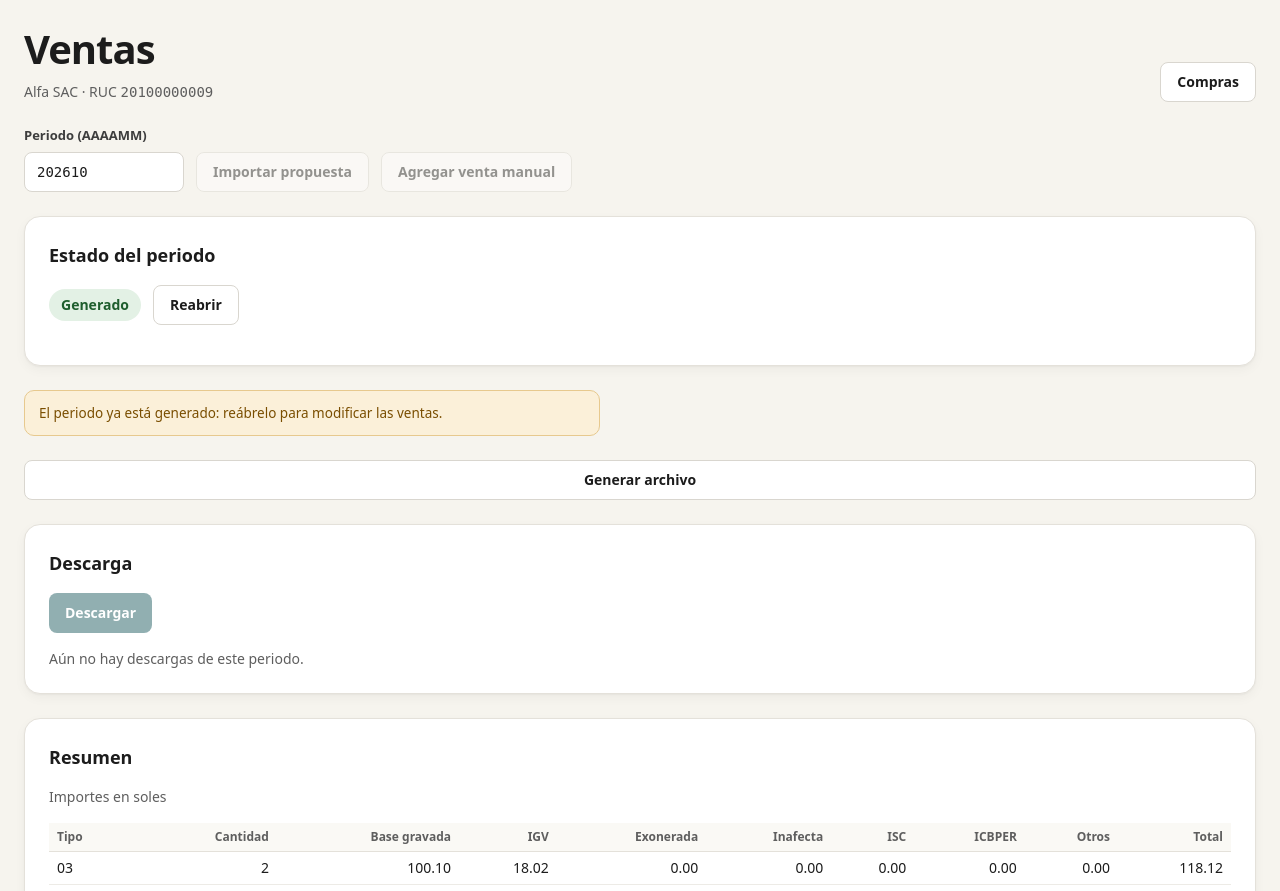
Test: Ventas · estado del periodo y escrituras (spec 012b T15, P-1, P-9, CA-10) › feliz: con `generado` las escrituras quedan deshabilitadas con el motivo y reabrir las habilita
expect the text "Generado" is shown: met, box top-left (49, 288), bottom-right (141, 320)
expect the text "El periodo ya está generado: reábrelo para modificar las ventas." is shown: met, box top-left (24, 390), bottom-right (600, 436)
Click the button "Reabrir" at (196, 304), box top-left (153, 284), bottom-right (239, 324)
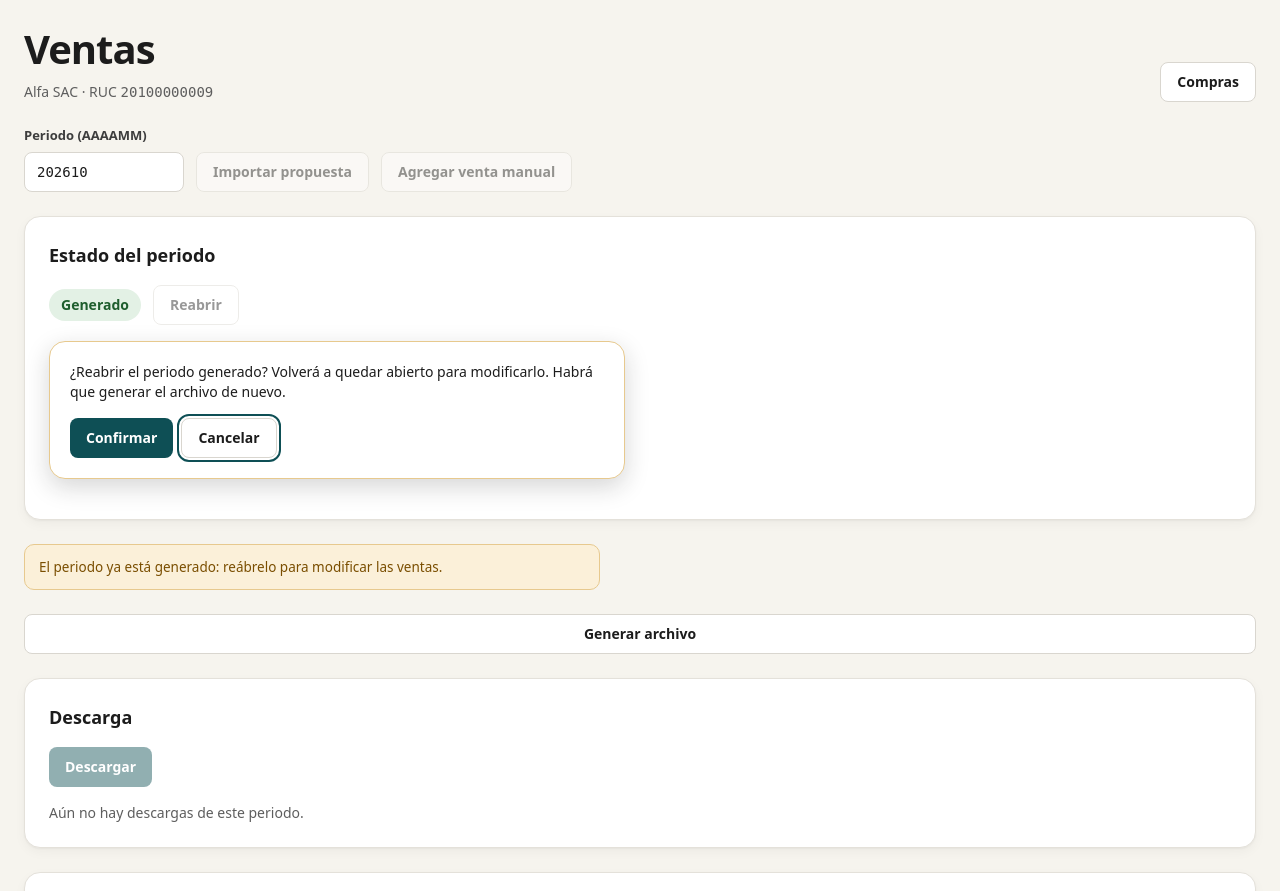
Click the button "Confirmar" at (122, 438), box top-left (70, 418), bottom-right (173, 458)
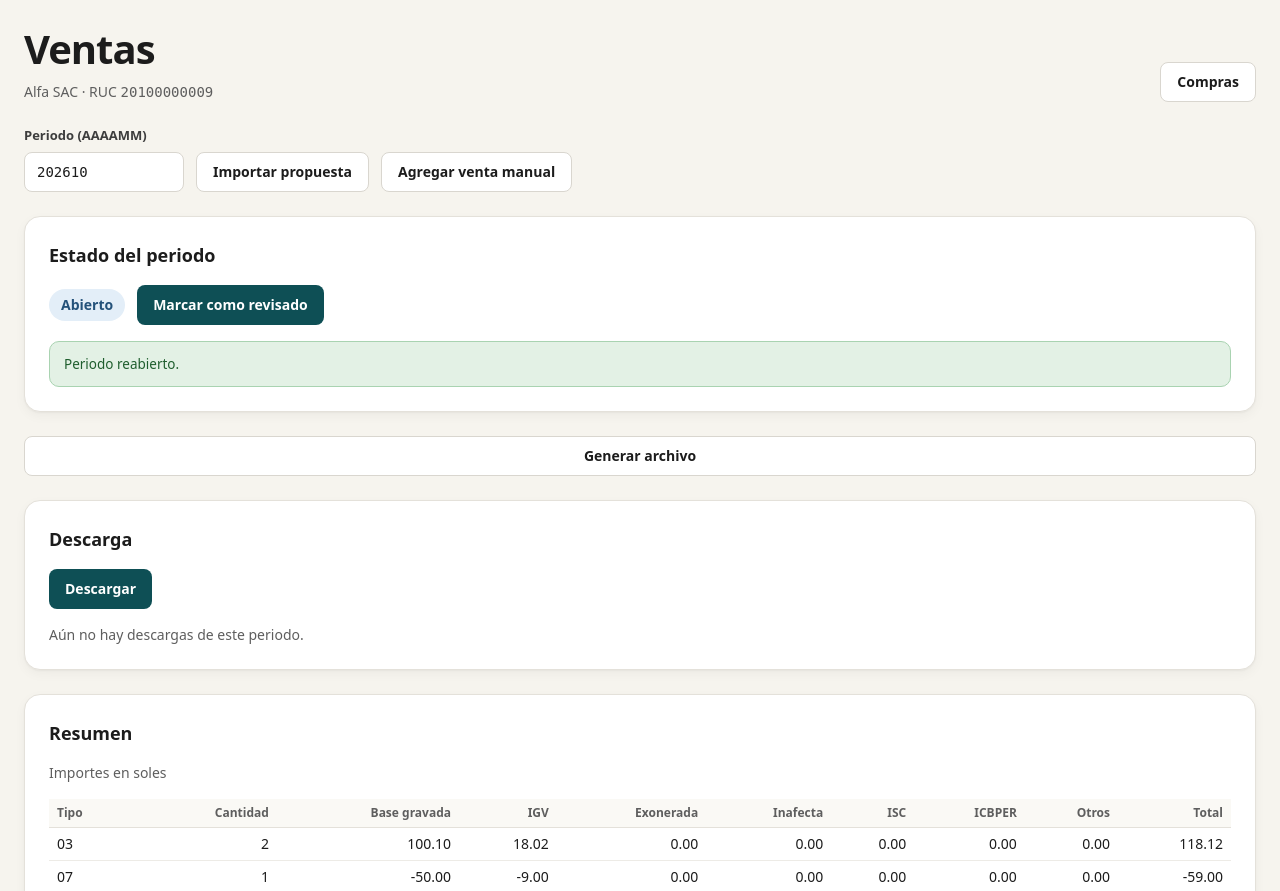
expect the button "Descargar" is enabled: met, box top-left (49, 569), bottom-right (152, 609)
expect the button "Agregar venta manual" is enabled: met, box top-left (381, 152), bottom-right (572, 192)
expect the text "El periodo ya está generado: reábrelo para modificar las ventas." is gone: met
